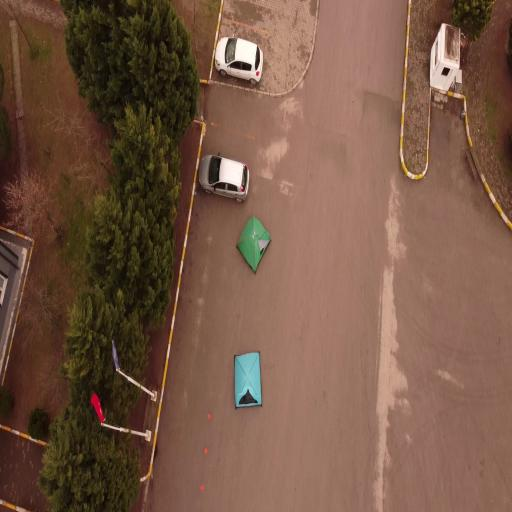tent: (234, 213, 273, 275), (232, 348, 264, 412)
